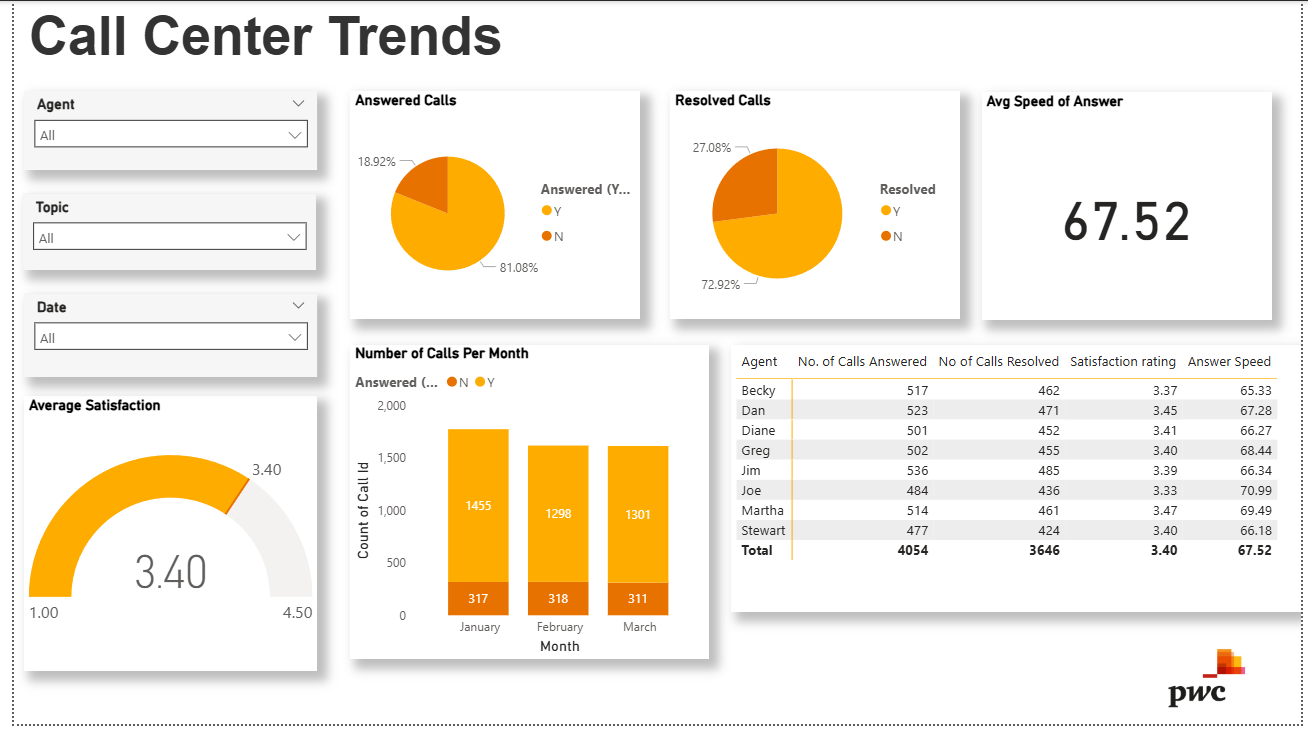

What the dashboard file says about the page in this screenshot:
{"tool":"powerbi","page":{"name":"Call Center Trends","canvas":[1280,720],"ordinal":0},"visuals":[{"type":"textbox","box":[9.8,0,1241.2,80.7],"z":0},{"type":"slicer","fields":{"Values":["Call Center.Agent"]},"box":[9.8,89.3,292.3,78.3],"z":1000},{"type":"slicer","fields":{"Values":["Call Center.Topic"]},"box":[8.6,192,292.3,75.8],"z":2000},{"type":"slicer","fields":{"Values":["Call Center.Date"]},"box":[9.8,291,292.3,83.2],"z":3000},{"type":"gauge","title":"Average Satisfaction ","fields":{"Y":["Call Center.Satisfaction rating"],"TargetValue":["Call Center.Satisfaction rating"],"MaxValue":["Call Center.Target Value Satisfaction"]},"box":[9.8,392.5,292.3,273.9],"z":4000},{"type":"pieChart","title":"Answered Calls","fields":{"Y":["Call Center.Answered (Y/N)"],"Category":["Call Center.Answered (Y/N)"]},"box":[335.1,89.3,288.6,227.4],"z":5000},{"type":"pieChart","title":"Resolved Calls","fields":{"Y":["Call Center.Answered (Y/N)"],"Category":["Call Center.Resolved"]},"box":[653,89.3,288.6,227.4],"z":6000},{"type":"card","title":"Avg Speed of Answer","fields":{"Values":["Call Center.Speed of answer in seconds"]},"box":[962.4,90.5,288.6,226.2],"z":7000},{"type":"columnChart","title":"Number of Calls Per Month","fields":{"Category":["Call Center.Date.Variation.Date Hierarchy.Month"],"Y":["Call Center.Call Id"],"Series":["Call Center.Answered (Y/N)"]},"box":[335.1,342.4,357.1,313],"z":8000},{"type":"pivotTable","fields":{"Values":["Call Center.No. of Calls Answered","Call Center.No of Calls Resolved","Call Center.Satisfaction rating","Call Center.Speed of answer in seconds"],"Rows":["Call Center.Agent"]},"box":[714.1,342.4,566.2,265.4],"z":9000},{"type":"image","box":[1093.2,631,187.1,89.3],"z":9001}]}

Visuals, with their boxes in screenshot pixels (x1, y1, x2, y2), scaled from the page's 1280x720 canvas onto the 1308x729 screenshot:
textbox: 10 0 1278 82
slicer - Call Center.Agent: 10 90 309 170
slicer - Call Center.Topic: 9 194 307 271
slicer - Call Center.Date: 10 295 309 379
"Average Satisfaction " gauge: 10 397 309 675
"Answered Calls" pieChart: 342 90 637 321
"Resolved Calls" pieChart: 667 90 962 321
"Avg Speed of Answer" card: 983 92 1278 321
"Number of Calls Per Month" columnChart: 342 347 707 664
pivotTable - Call Center.No. of Calls Answered x Call Center.No of Calls Resolved: 730 347 1307 615
image: 1117 639 1307 728
